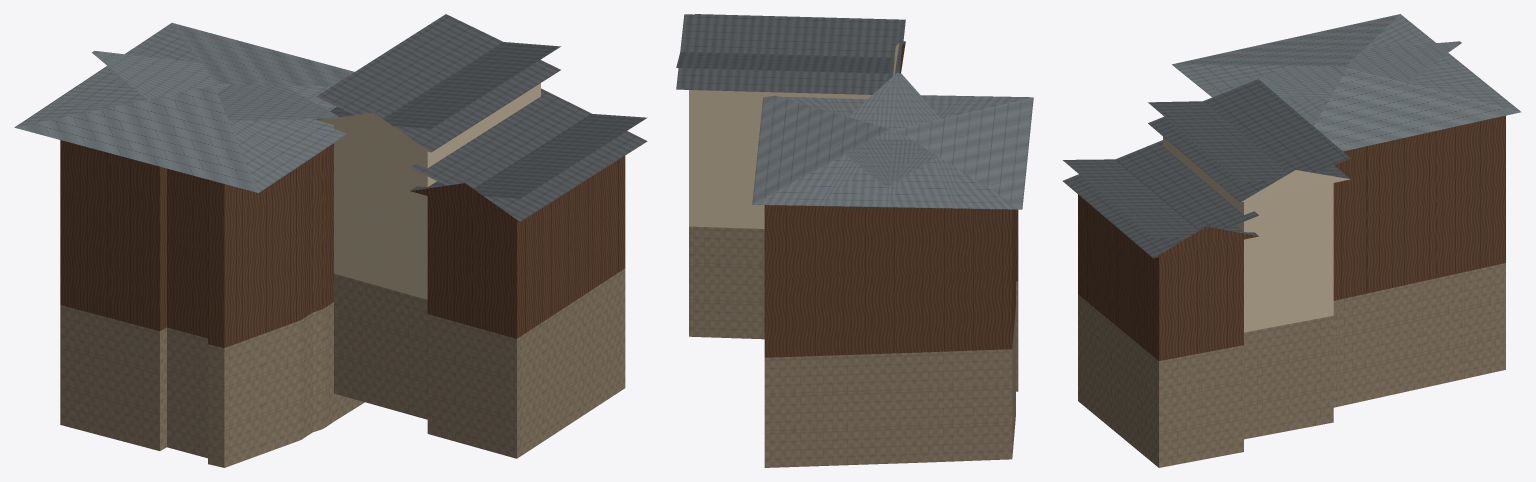
Rendered from bld_c21_32_373.gltf.
3 renders of one model, left to right at view 1: azimuth 30°, elevation 25°; view 2: azimuth 150°, elevation 25°; view 3: azimuth 270°, elevation 25°, orthographic. The views are drawn at different scales.
Visible parts, largest first — view 1: bld_c21_32_373; view 2: bld_c21_32_373; view 3: bld_c21_32_373.
Part boxes in pixels (x1,y1,x2,y2): bld_c21_32_373: (14, 14, 647, 467); bld_c21_32_373: (676, 14, 1033, 467); bld_c21_32_373: (1063, 14, 1521, 467).
Size of the model in its own units: 22.05 by 13.9 by 19.88.
7 materials, 7 textured.
